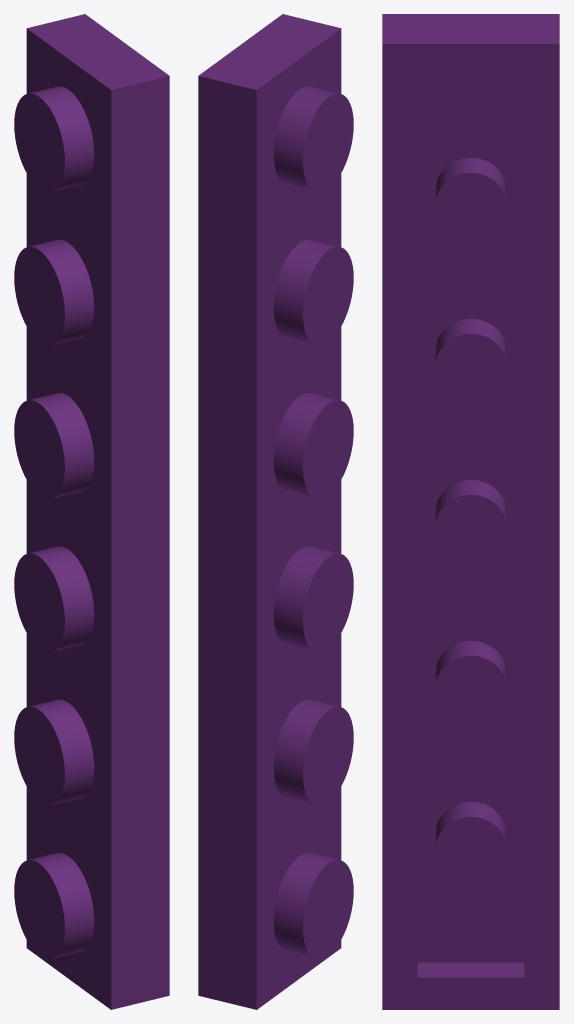
Rendered from plate1*6_medium_lavender.obj.
3 views of the same model, side by side, from view 1: azimuth 30°, elevation 25°; view 2: azimuth 150°, elevation 25°; view 3: azimuth 270°, elevation 25° (orthographic). The views are drawn at different scales.
Size of the model in its own units: 12 by 120 by 20.
